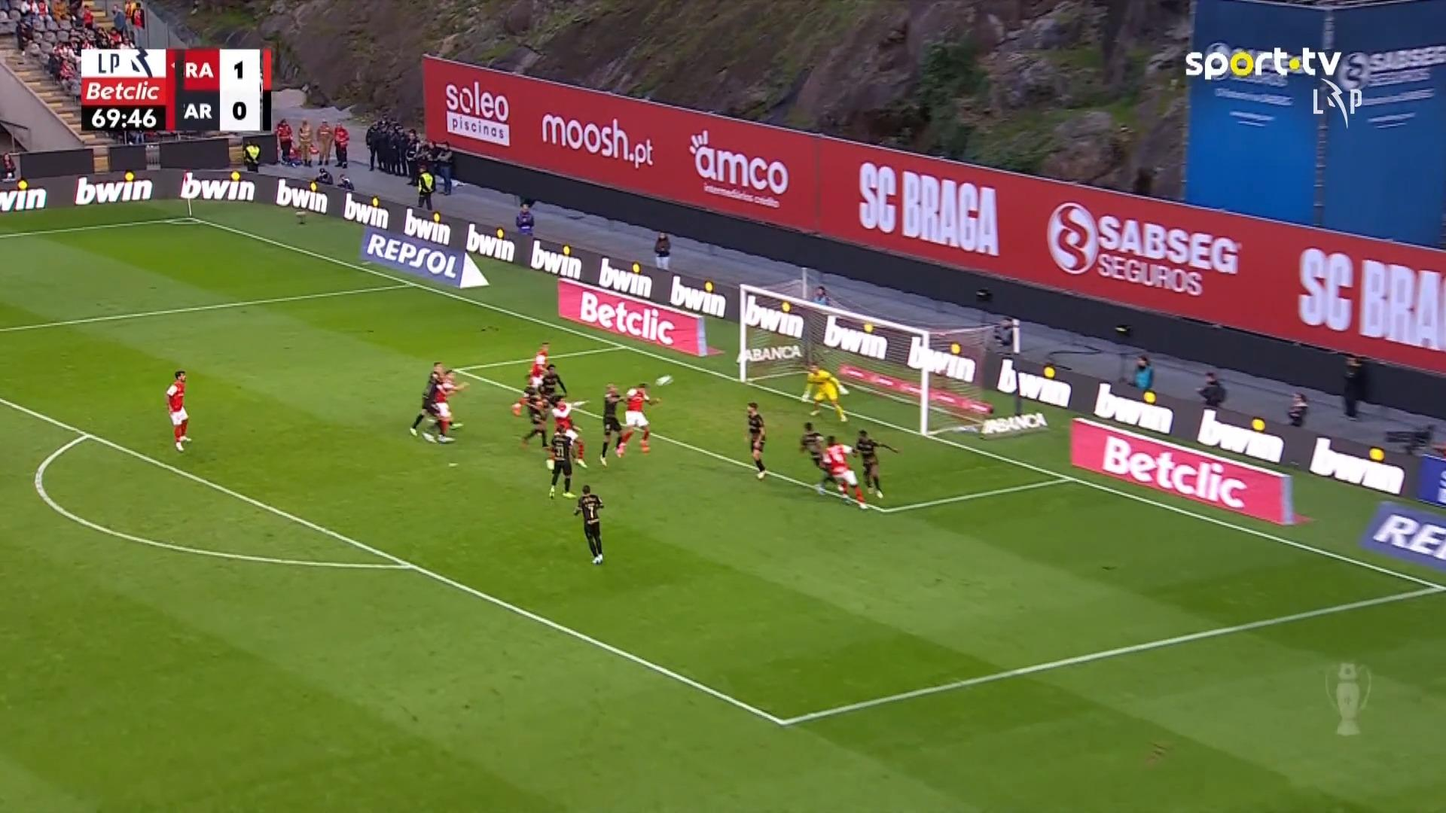ball: (655, 374, 673, 386)
goalkeeper: (800, 360, 849, 422)
player: (817, 434, 868, 509), (408, 362, 453, 443), (614, 381, 660, 455), (798, 421, 841, 495), (853, 428, 898, 498), (548, 397, 588, 467), (572, 483, 606, 564), (429, 367, 468, 437), (511, 382, 551, 449), (545, 424, 578, 498), (597, 382, 624, 466), (164, 369, 191, 452), (744, 400, 768, 479), (527, 340, 551, 388), (538, 362, 566, 403), (296, 117, 314, 166)
